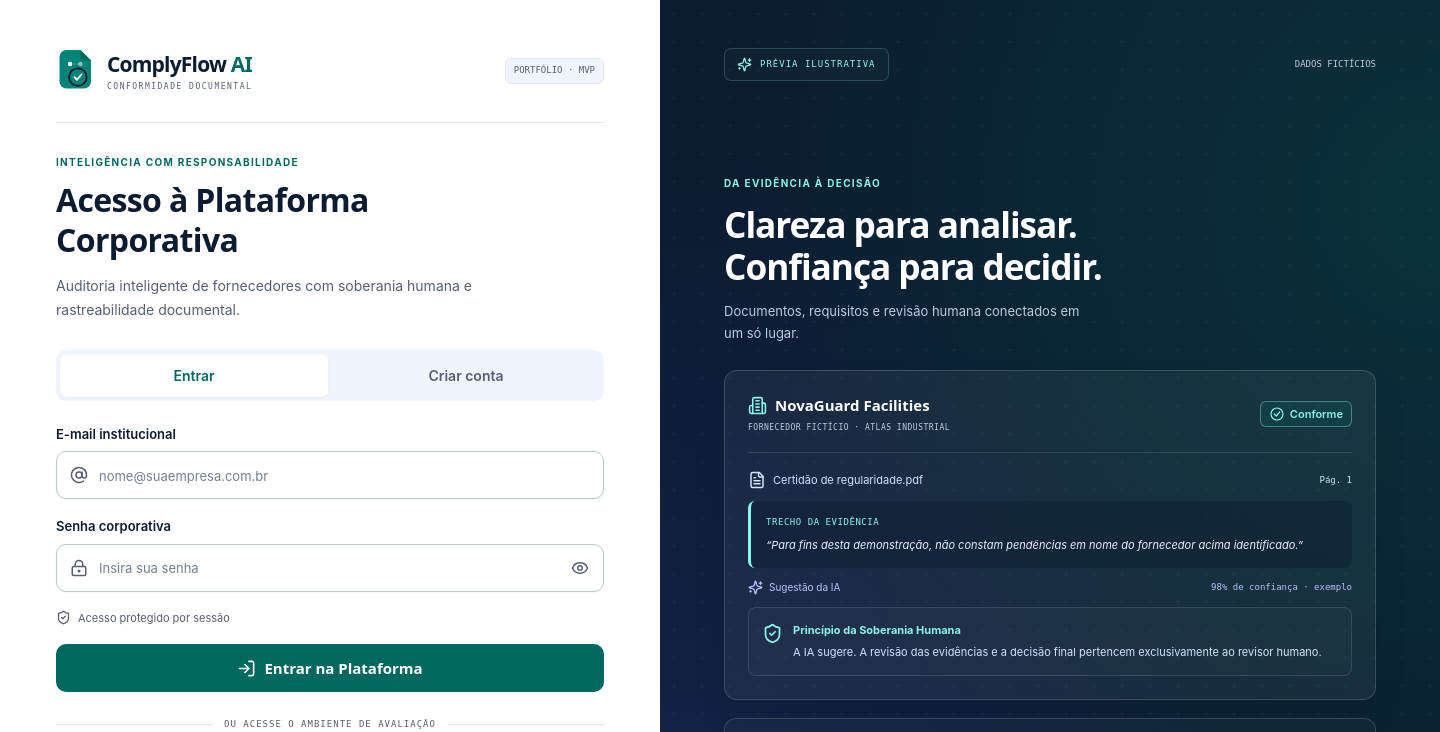
Test: Login and protected navigation › labels invalid credentials and clears the submitted password
Type "ana@example.com" into the field labelled "E-mail institucional" at (330, 475), box [56,451,604,499]
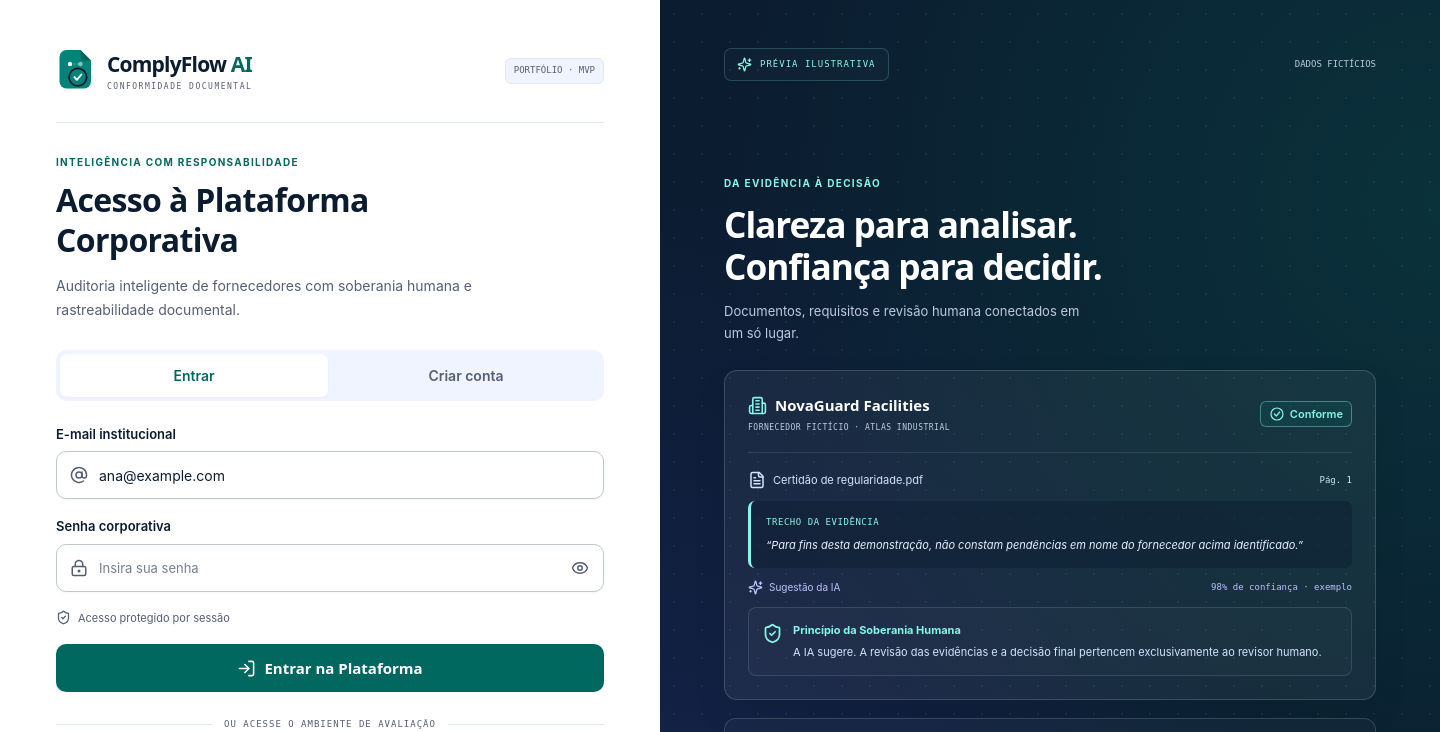
Type "invalid" into the password field labelled "Senha corporativa" at (330, 568), box [56,544,604,592]
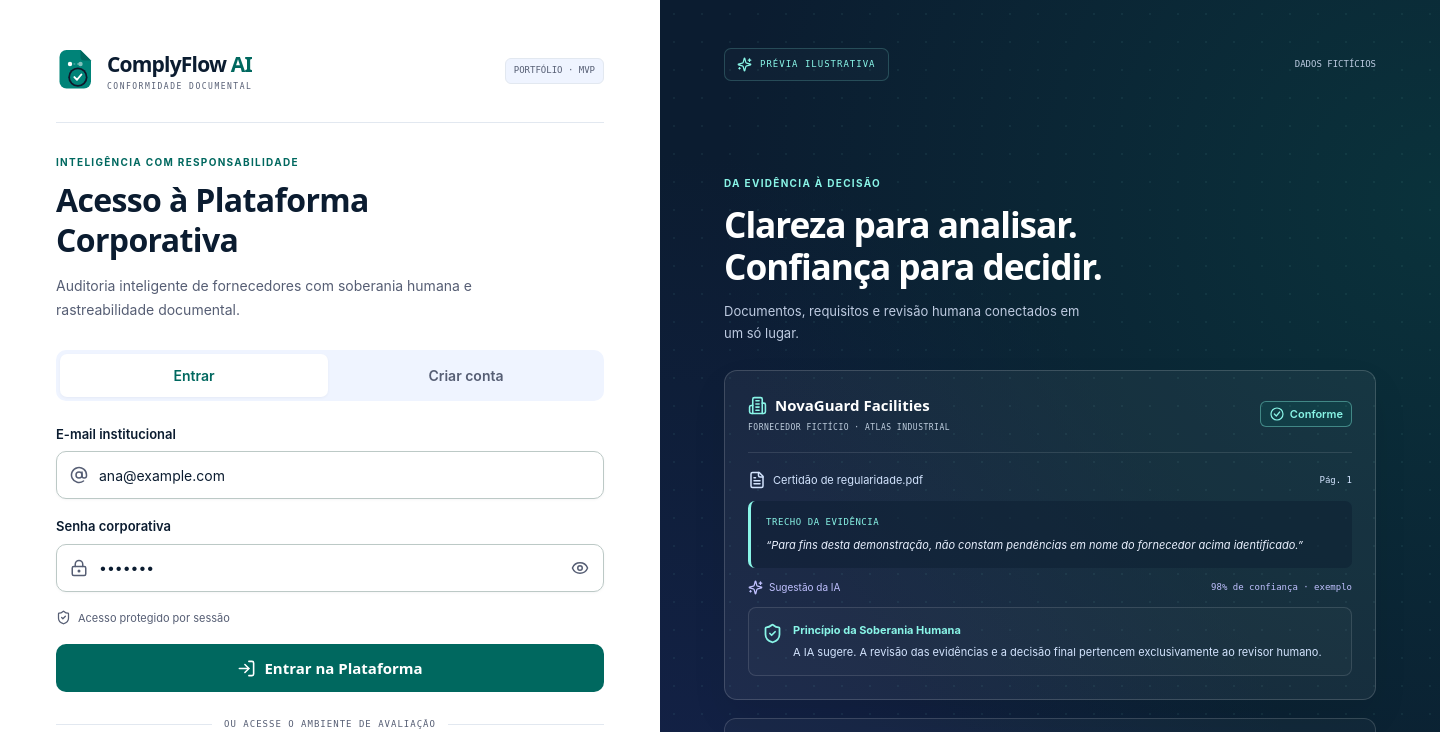
Submit the form named "Acesso à plataforma", box [56,425,604,692]
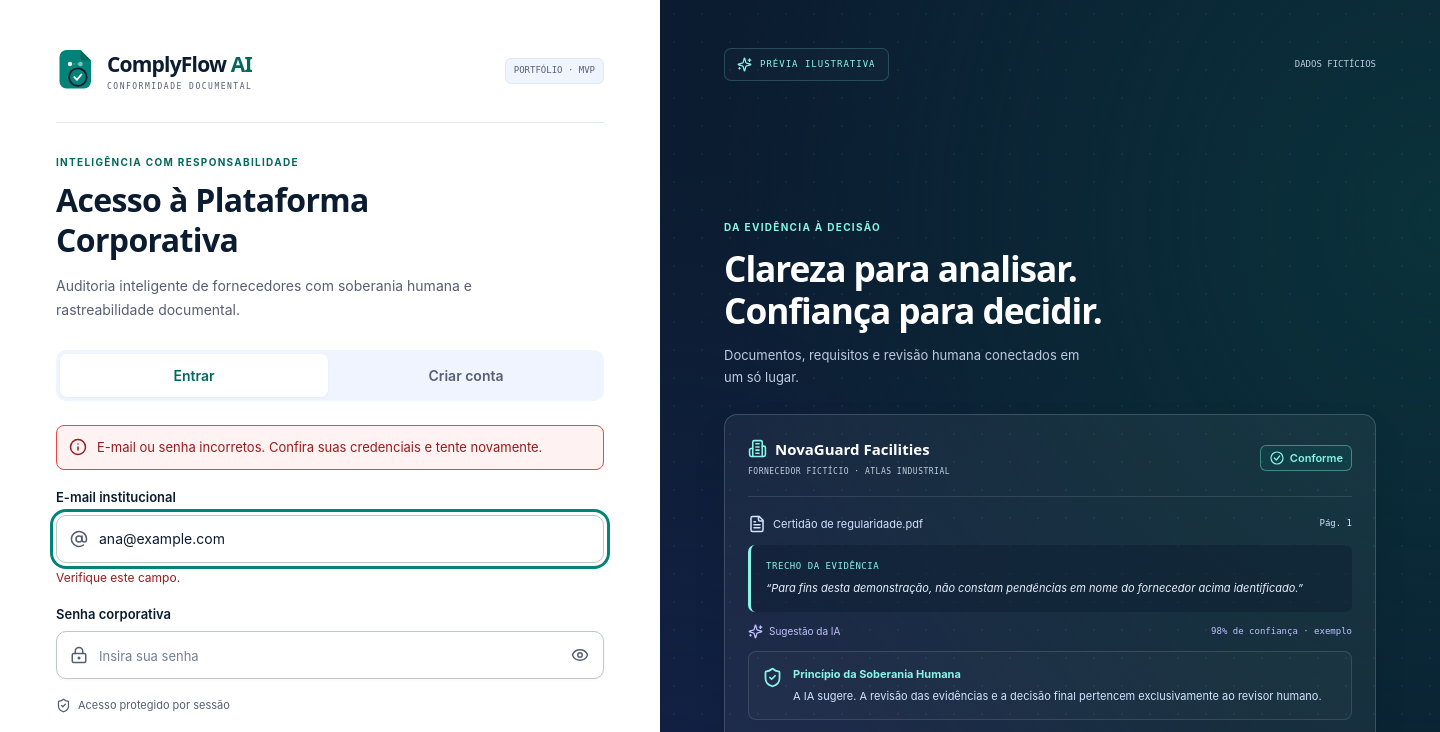
Now the message shows "E-mail ou senha", box [97,439,542,455]
Now the password field labelled "Senha corporativa" is empty, box [56,631,604,679]
